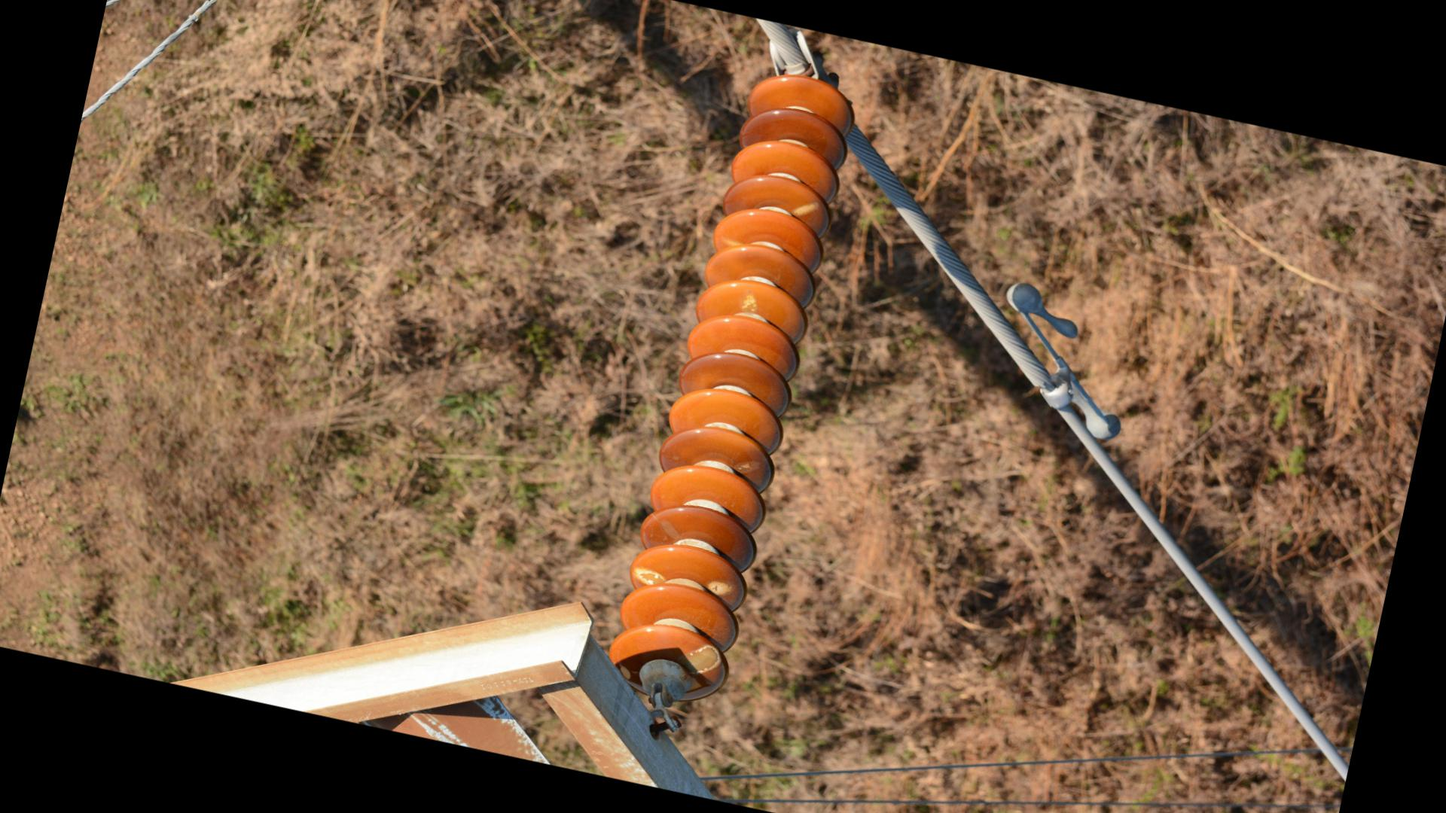damper: (974, 273, 1152, 452)
